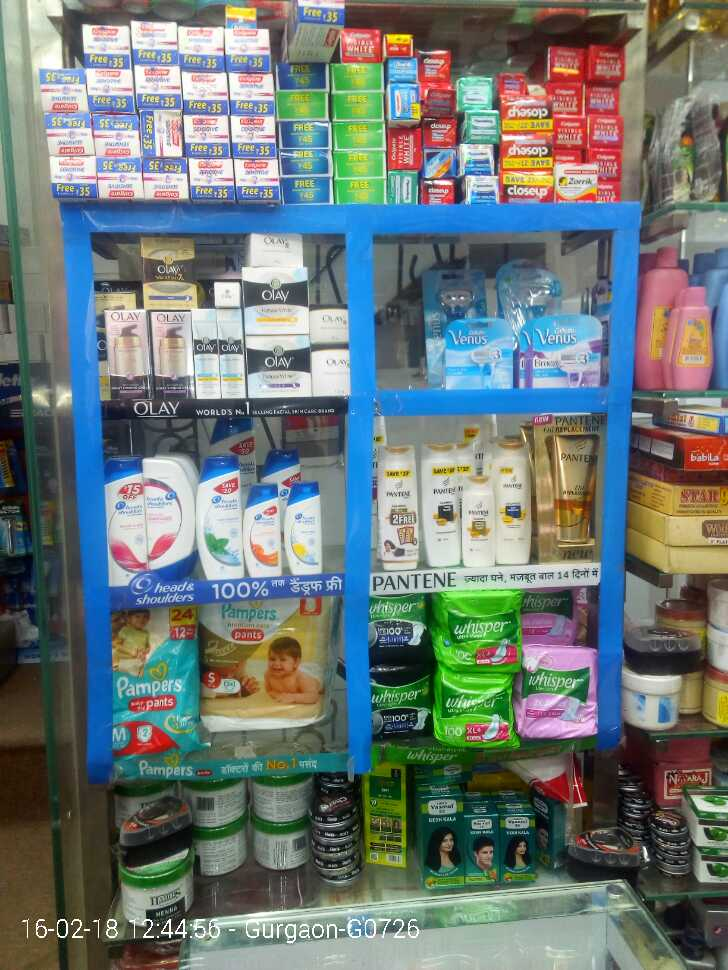venus: (520, 316, 603, 382), (453, 325, 520, 382), (424, 270, 492, 314), (506, 263, 559, 312)
